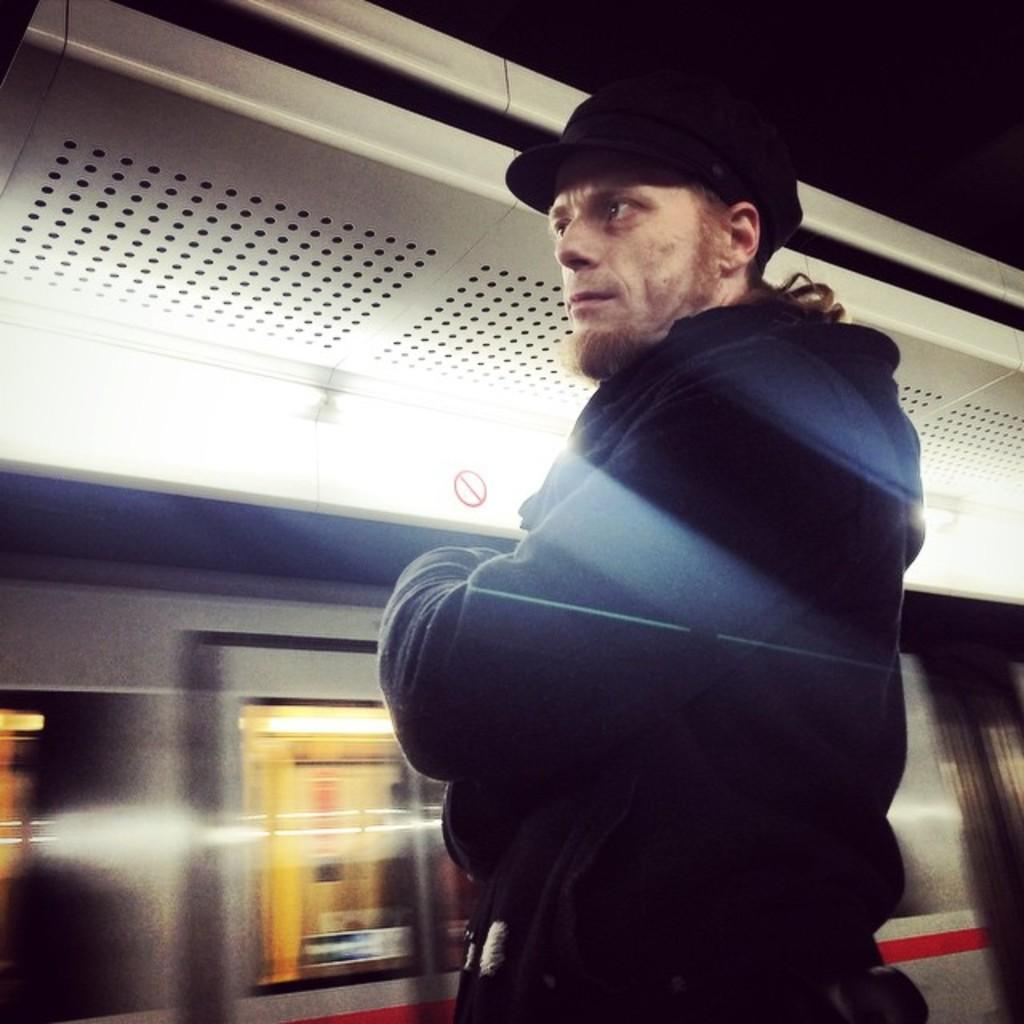Hat: (505, 84, 804, 278)
